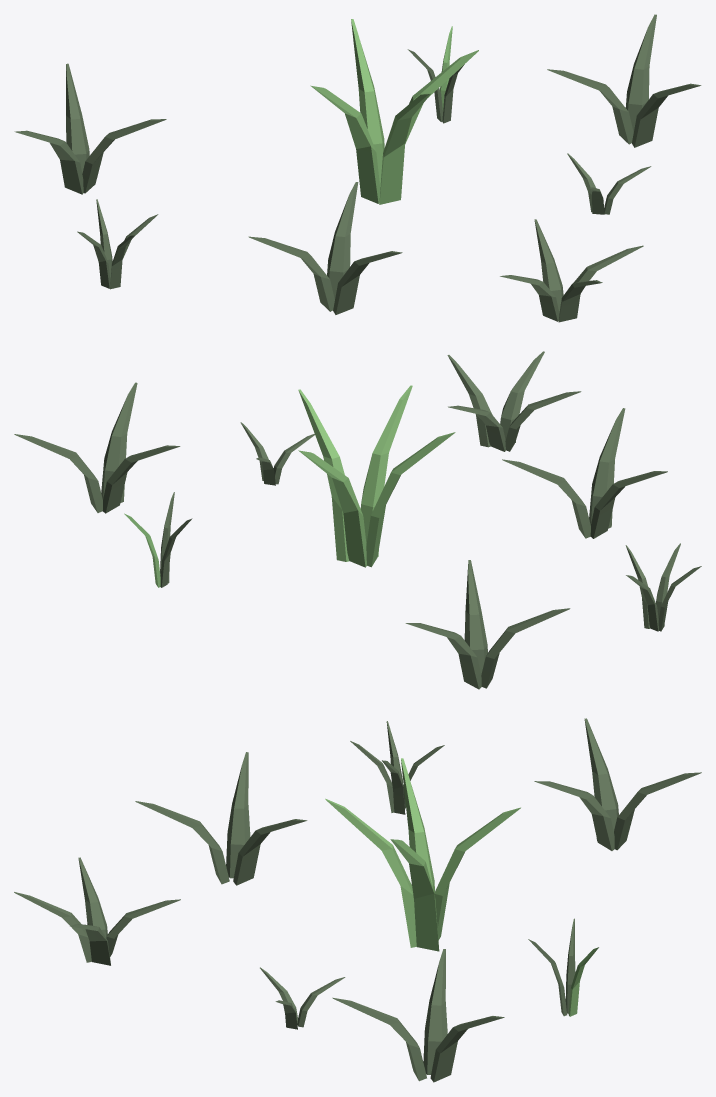
File: SM_L_Grass.fbx
3 views of the same model, one above another, from view 1: azimuth 30°, elevation 25°; view 2: azimuth 150°, elevation 25°; view 3: azimuth 270°, elevation 25° (orthographic). The views are drawn at different scales.
Parts seen in each view (by area): view 1: SM_Grass; view 2: SM_Grass; view 3: SM_Grass.
Part boxes in pixels (x1,y1,x2,y2): SM_Grass: [14, 14, 701, 322]; SM_Grass: [14, 351, 701, 689]; SM_Grass: [14, 718, 701, 1082].
Bounding box in the file's own units: 73.89 × 16.55 × 67.75.
